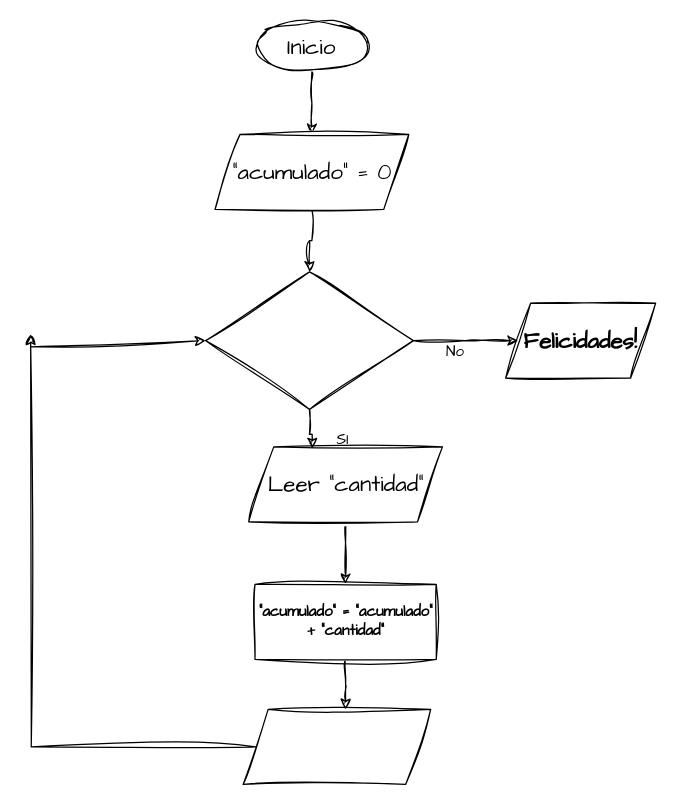
Image size: 678x806. Some labels were removed from this diagram. The centre of each missing label's shape, as x and y in pixels:
acumulado<1000: (x=308, y=340)
Mostrar total "acumulado": (x=336, y=746)
